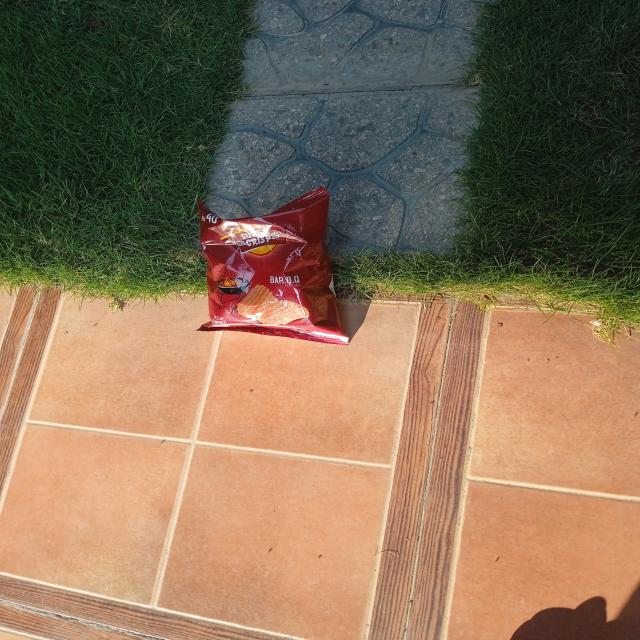Plastic: (198, 191, 348, 344)
